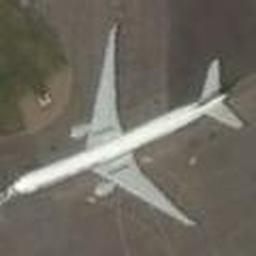Airplane: (2, 21, 247, 227)
